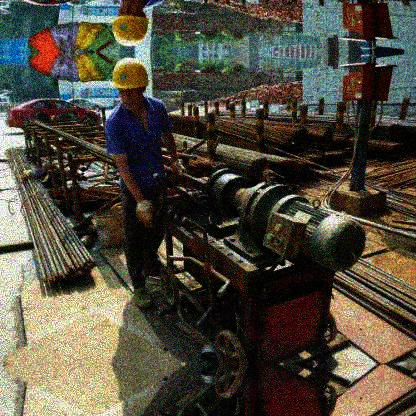helmet: (112, 58, 152, 109), (112, 1, 149, 46)
